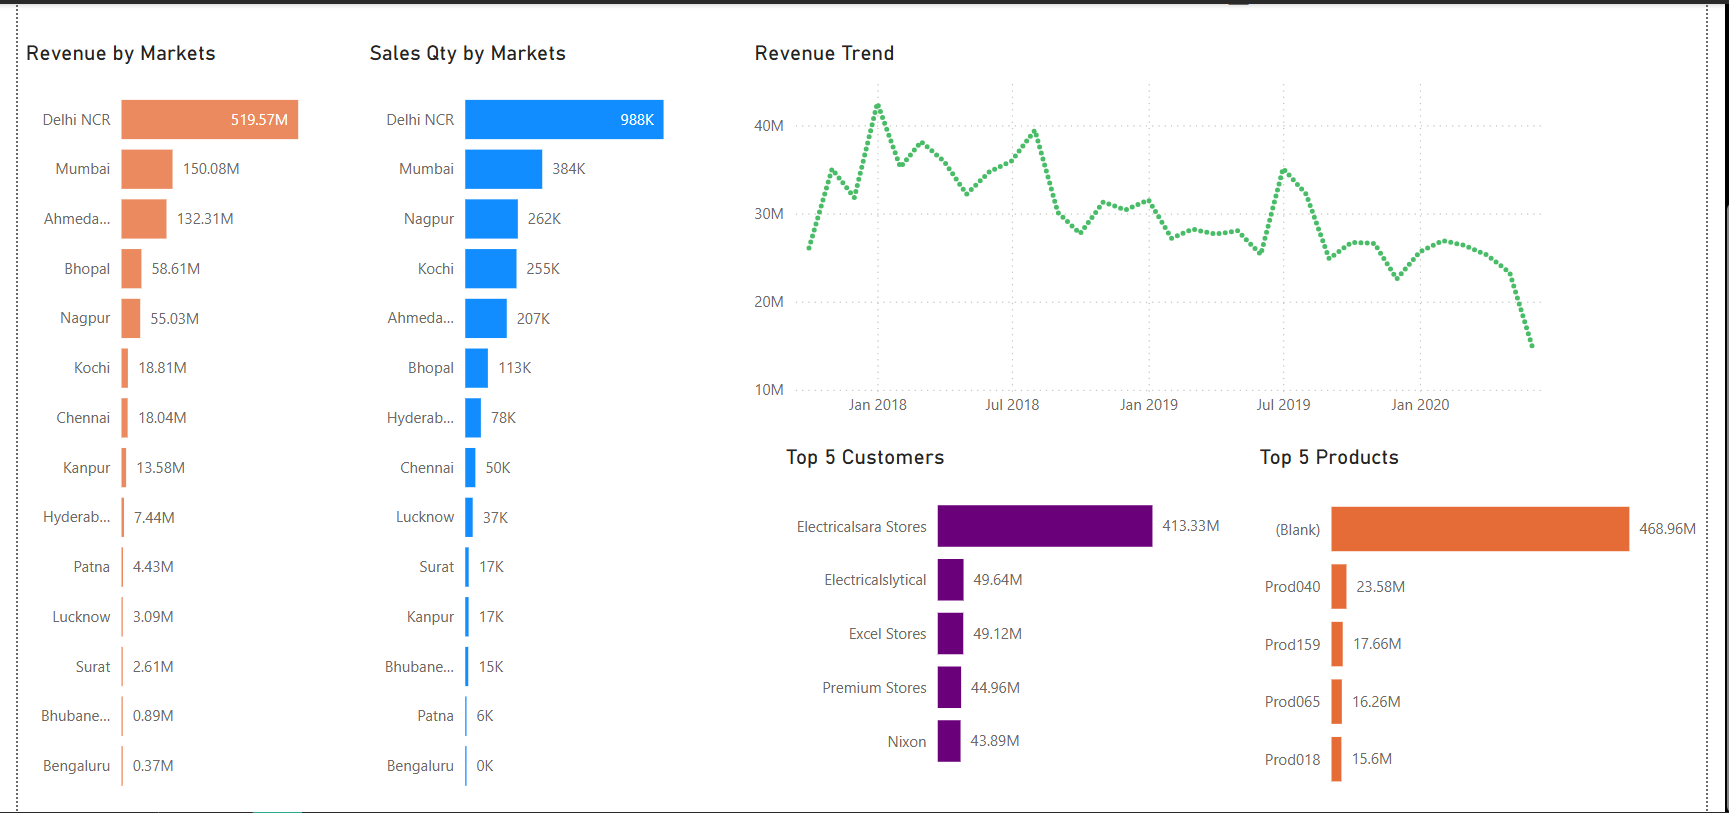

This screenshot's page, from the dashboard's own definition file:
{"tool":"powerbi","page":{"name":"Page 1","canvas":[1350,850],"ordinal":0},"visuals":[{"type":"card","fields":{"Values":["BaseMeasures.Revenue"]},"box":[0,0,276.1,232],"z":0},{"type":"card","fields":{"Values":["BaseMeasures.Sales Qty"]},"box":[276.1,0,274.6,232],"z":1000},{"type":"barChart","title":"Revenue by Markets","fields":{"Y":["BaseMeasures.Revenue"],"Category":["sales markets.markets_name"]},"box":[1.5,232,274.6,618.3],"z":2000},{"type":"barChart","title":"Sales Qty by Markets","fields":{"Y":["BaseMeasures.Sales Qty"],"Category":["sales markets.markets_name"]},"box":[276.1,232,274.6,618.3],"z":3000},{"type":"slicer","fields":{"Values":["sales date.year"]},"box":[637,0,274.6,232],"z":4000},{"type":"slicer","fields":{"Values":["sales date.cy_date"]},"box":[956,0,274.6,207.1],"z":5000},{"type":"barChart","title":"Top 5 Customers","fields":{"Y":["BaseMeasures.Revenue"],"Category":["sales customers.custmer_name"]},"box":[609.5,555.1,361.3,277.6],"z":6000},{"type":"barChart","title":"Top 5 Products","fields":{"Y":["BaseMeasures.Revenue"],"Category":["sales products.product_code"]},"box":[988.3,555.1,361.3,295.2],"z":7000},{"type":"lineChart","title":"Revenue Trend","fields":{"Y":["BaseMeasures.Revenue"],"Category":["sales date.cy_date"]},"box":[584.5,232,656.4,309.9],"z":8000}]}

Visuals, with their boxes on the page's 1350x850 design canvas (x1, y1, x2, y2). These are canvas units, not pixel positions in the 1729x813 screenshot, which may show the page scaled, cropped or inside an application window:
card - BaseMeasures.Revenue: (0, 0, 276, 232)
card - BaseMeasures.Sales Qty: (276, 0, 551, 232)
"Revenue by Markets" barChart: (2, 232, 276, 850)
"Sales Qty by Markets" barChart: (276, 232, 551, 850)
slicer - sales date.year: (637, 0, 912, 232)
slicer - sales date.cy_date: (956, 0, 1231, 207)
"Top 5 Customers" barChart: (610, 555, 971, 833)
"Top 5 Products" barChart: (988, 555, 1350, 850)
"Revenue Trend" lineChart: (584, 232, 1241, 542)
